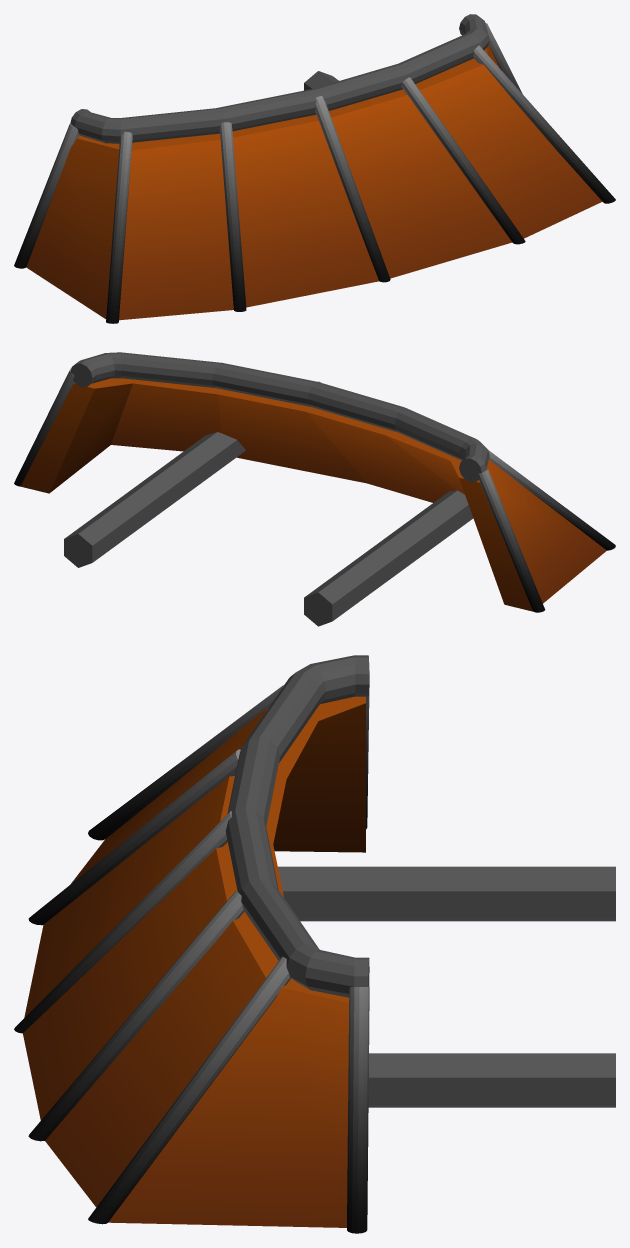
File: SM_Wpn_Bumper.fbx
3 views of the same model, one above another, from view 1: azimuth 30°, elevation 25°; view 2: azimuth 150°, elevation 25°; view 3: azimuth 270°, elevation 25° (orthographic). The views are drawn at different scales.
Visible parts, largest first — view 1: SM_Wpn_Bumper; view 2: SM_Wpn_Bumper; view 3: SM_Wpn_Bumper.
Part boxes in pixels (bbox=[...]): SM_Wpn_Bumper: bbox=[14, 14, 615, 323]; SM_Wpn_Bumper: bbox=[14, 352, 615, 626]; SM_Wpn_Bumper: bbox=[14, 655, 615, 1233].
Size of the model in its own units: 2.37 by 0.596 by 1.47.
